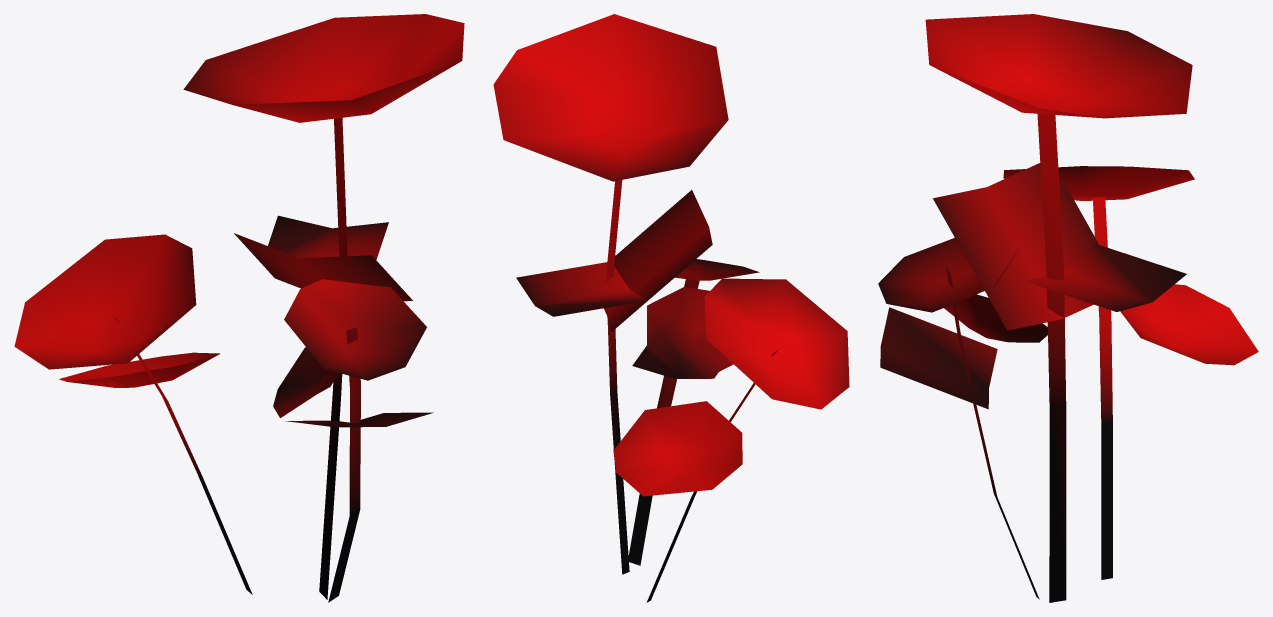
The model's file is SM_Flower_02.fbx.
3 renders of one model, left to right at view 1: azimuth 30°, elevation 25°; view 2: azimuth 150°, elevation 25°; view 3: azimuth 270°, elevation 25°, orthographic. The views are drawn at different scales.
Parts seen in each view (by area): view 1: SM_Flower_02_LOD0; view 2: SM_Flower_02_LOD0; view 3: SM_Flower_02_LOD0.
Part boxes in pixels (x1,y1,x2,y2): SM_Flower_02_LOD0: [14, 14, 464, 602]; SM_Flower_02_LOD0: [493, 14, 849, 602]; SM_Flower_02_LOD0: [878, 14, 1258, 602].
Bounding box in the file's own units: 46.81 × 38.2 × 63.94.
